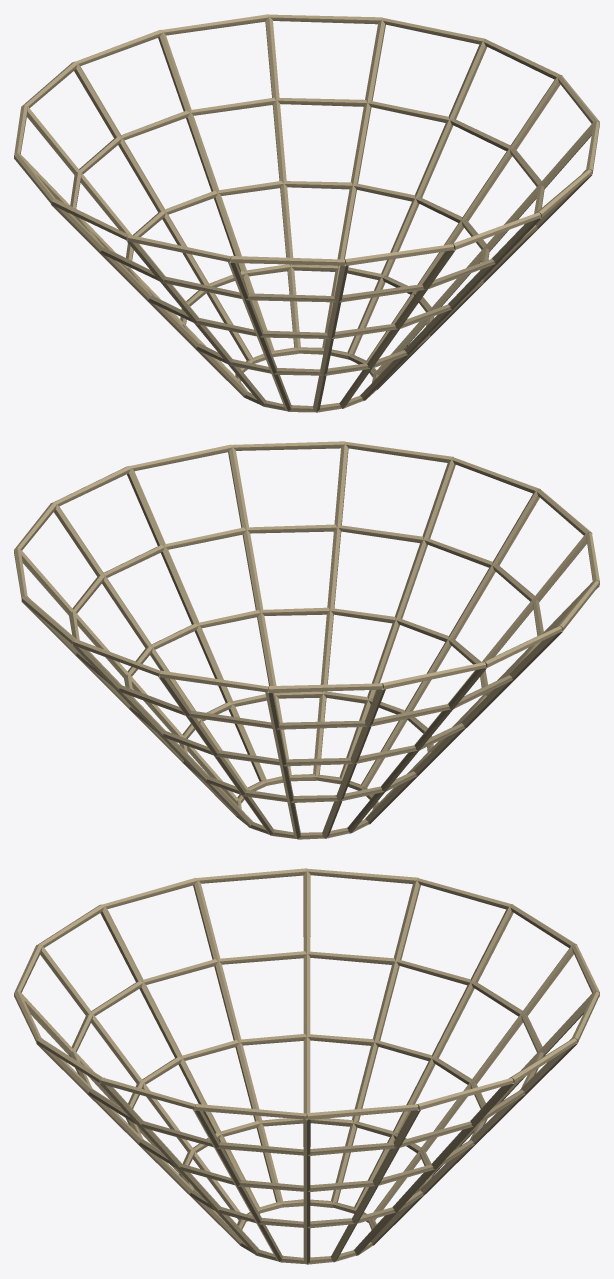
The model's file is net_cast.glb.
3 renders of one model, top to bottom at view 1: azimuth 30°, elevation 25°; view 2: azimuth 150°, elevation 25°; view 3: azimuth 270°, elevation 25°, orthographic.
Visible parts, largest first — view 1: net_cast; view 2: net_cast; view 3: net_cast.
Boxes of the visible parts, bbox=[...] form: net_cast: bbox=[14, 14, 599, 412]; net_cast: bbox=[14, 441, 599, 839]; net_cast: bbox=[14, 868, 599, 1264].
Size of the model in its own units: 2.12 by 0.978 by 2.12.
